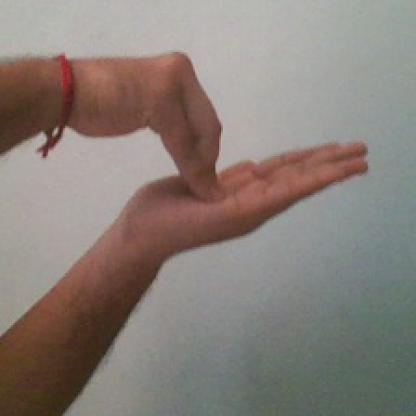Z: (82, 46, 375, 275)
